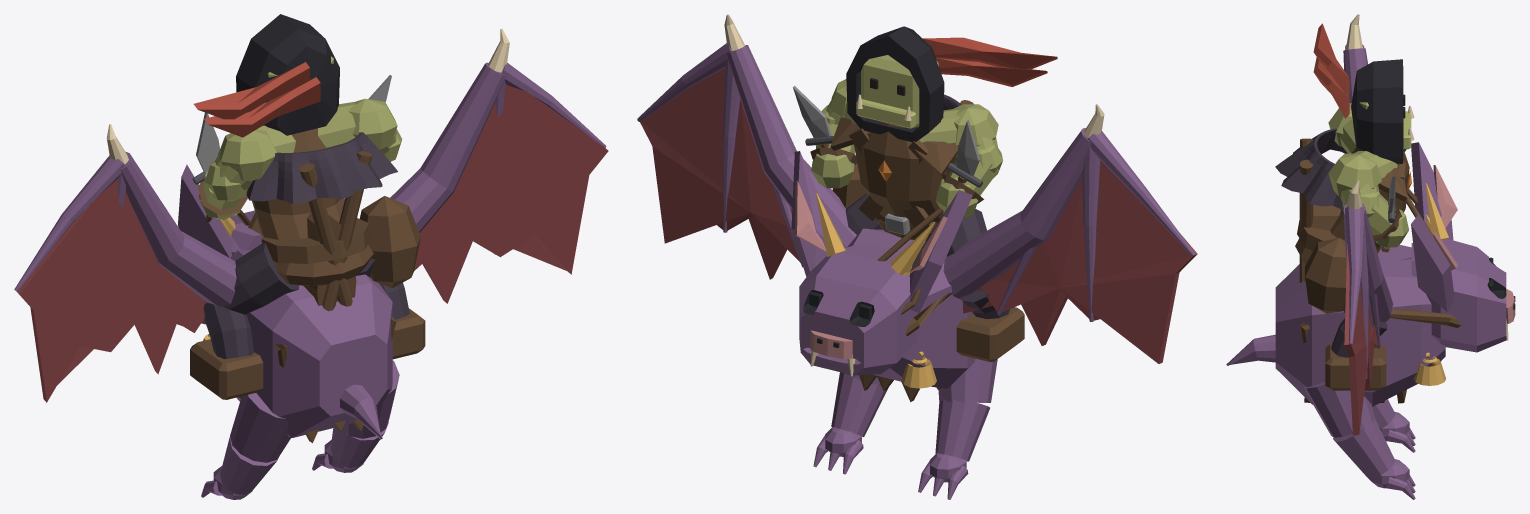
Rendered from host_48.glb.
3 renders of one model, left to right at view 1: azimuth 30°, elevation 25°; view 2: azimuth 150°, elevation 25°; view 3: azimuth 270°, elevation 25°, orthographic. The views are drawn at different scales.
Parts seen in each view (by area): view 1: V6 source mounted closed scalloped membrane R, V6 source mounted closed scalloped membrane L, V6 mount continuous anatomical thorax, V6 source fitted domed cloth hood, V6 source mounted wing shoulder elbow wrist bone L, V6 source mounted wing shoulder elbow wrist bone R, Real rear cape, V6 Blackfire source actual whole head-owned folded red scarf (×2), Heavy attached loot pouch, Grounded boot L, V6 bat actual contacting hind thigh L, V6 rider source seated thorax (+22 smaller); view 2: V6 source mounted closed scalloped membrane L, V6 source mounted closed scalloped membrane R, V6 bat source short faceted cranium, V6 source mounted wing shoulder elbow wrist bone L, V6 source mounted wing shoulder elbow wrist bone R, V6 source fitted domed cloth hood, V6 mount continuous anatomical thorax, V6 rider source seated thorax, V6 Blackfire source actual whole head-owned folded red scarf (×2), Grounded boot L, V6 bat actual hind shin and ankle L, Observed face (+28 smaller); view 3: V6 mount continuous anatomical thorax, V6 bat source short faceted cranium, V6 source fitted domed cloth hood, Real rear cape, Heavy attached loot pouch, V6 source mounted closed scalloped membrane R, V6 bat source tall pointed anatomical ear.001, V6 bat actual contacting hind thigh R, V6 bat actual hind shin and ankle R, V6 Blackfire source actual whole head-owned folded red scarf (×2), V6 source actual membrane finger R, Grounded boot R (+27 smaller).
Boxes of the visible parts, box(x1,y1,x2,y2) form: V6 source mounted closed scalloped membrane R: box(414, 84, 608, 303); V6 source mounted closed scalloped membrane L: box(16, 179, 207, 402); V6 mount continuous anatomical thorax: box(230, 249, 392, 437); V6 source fitted domed cloth hood: box(236, 14, 339, 135); V6 source mounted wing shoulder elbow wrist bone L: box(120, 151, 236, 306); V6 source mounted wing shoulder elbow wrist bone R: box(390, 62, 506, 232); Real rear cape: box(246, 132, 397, 203); V6 Blackfire source actual whole head-owned folded red scarf (×2): box(193, 62, 320, 137); Heavy attached loot pouch: box(359, 196, 420, 288); Grounded boot L: box(190, 339, 263, 399); V6 bat actual contacting hind thigh L: box(230, 393, 290, 462); V6 rider source seated thorax: box(252, 128, 344, 239); V6 source mounted closed scalloped membrane L: box(962, 160, 1197, 363); V6 source mounted closed scalloped membrane R: box(640, 68, 800, 279); V6 bat source short faceted cranium: box(799, 242, 917, 375); V6 source mounted wing shoulder elbow wrist bone L: box(943, 128, 1091, 299); V6 source mounted wing shoulder elbow wrist bone R: box(726, 45, 856, 247); V6 source fitted domed cloth hood: box(846, 26, 944, 142); V6 mount continuous anatomical thorax: box(847, 228, 975, 388); V6 rider source seated thorax: box(854, 120, 949, 223); V6 Blackfire source actual whole head-owned folded red scarf (×2): box(922, 37, 1057, 86); Grounded boot L: box(956, 307, 1024, 361); V6 bat actual hind shin and ankle L: box(935, 399, 989, 461); Observed face: box(861, 55, 938, 127); V6 mount continuous anatomical thorax: box(1275, 244, 1445, 406); V6 bat source short faceted cranium: box(1411, 239, 1506, 352); V6 source fitted domed cloth hood: box(1351, 59, 1403, 163); Real rear cape: box(1275, 128, 1347, 210); Heavy attached loot pouch: box(1305, 238, 1346, 313); V6 source mounted closed scalloped membrane R: box(1344, 244, 1378, 435); V6 bat source tall pointed anatomical ear.001: box(1411, 214, 1454, 311); V6 bat actual contacting hind thigh R: box(1304, 382, 1375, 437); V6 bat actual hind shin and ankle R: box(1333, 417, 1395, 478); V6 Blackfire source actual whole head-owned folded red scarf (×2): box(1313, 23, 1349, 118); V6 source actual membrane finger R: box(1345, 206, 1364, 344); Grounded boot R: box(1325, 343, 1386, 390).
Size of the model in its own units: 2.45 by 1.86 by 1.19.
